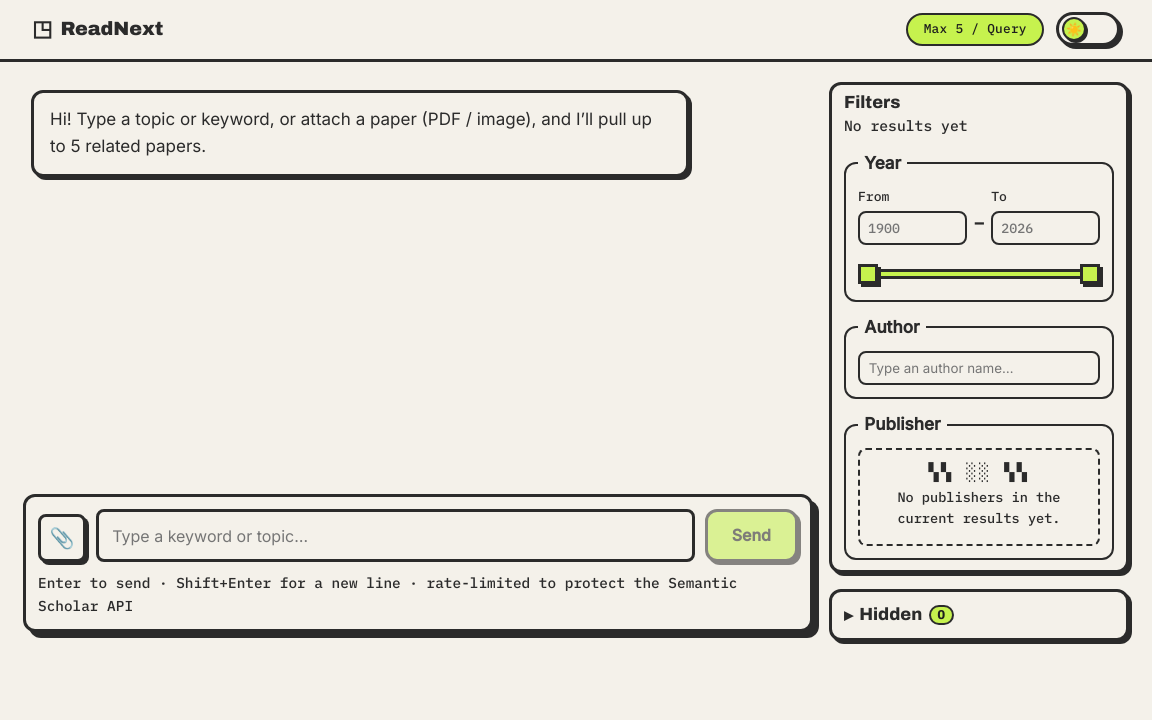
chat integration: filters drive what the chat operates on › shows an explicit empty state (not a silent fallback) when filters match nothing
Type "deep learning" into the text box with placeholder "Type a keyword or topic…" at {"x": 395, "y": 536}, box [96, 509, 695, 562]
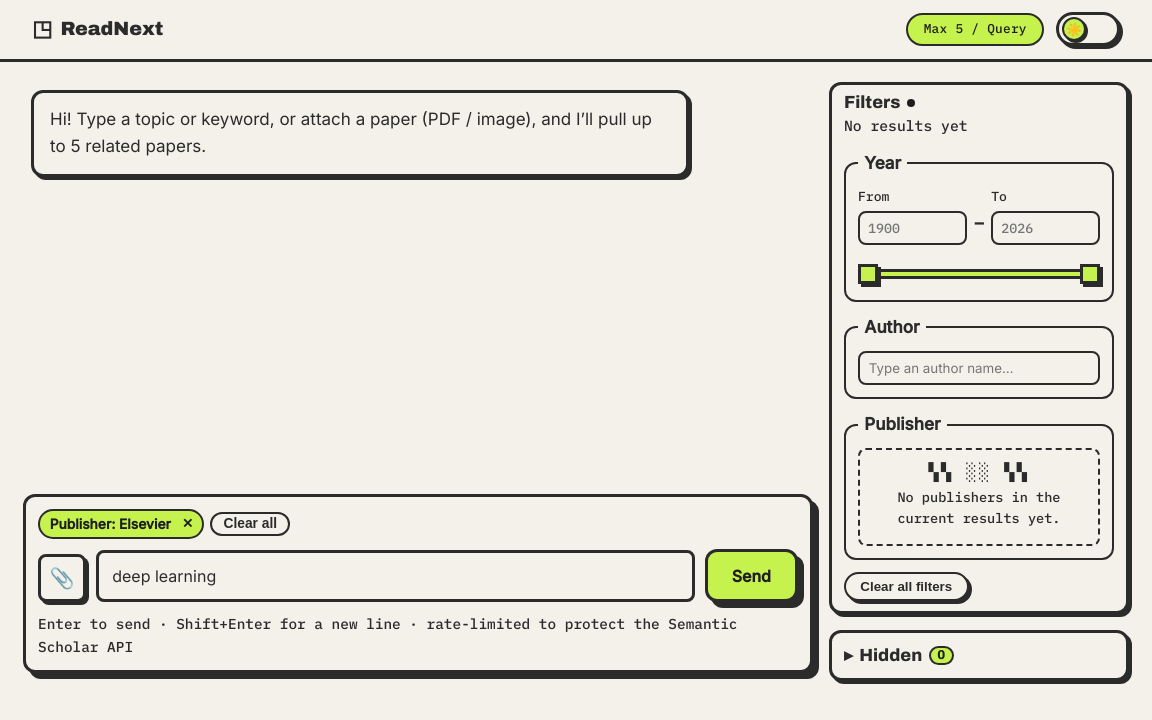
Click the button "Send" at {"x": 751, "y": 576}, box [705, 549, 798, 602]
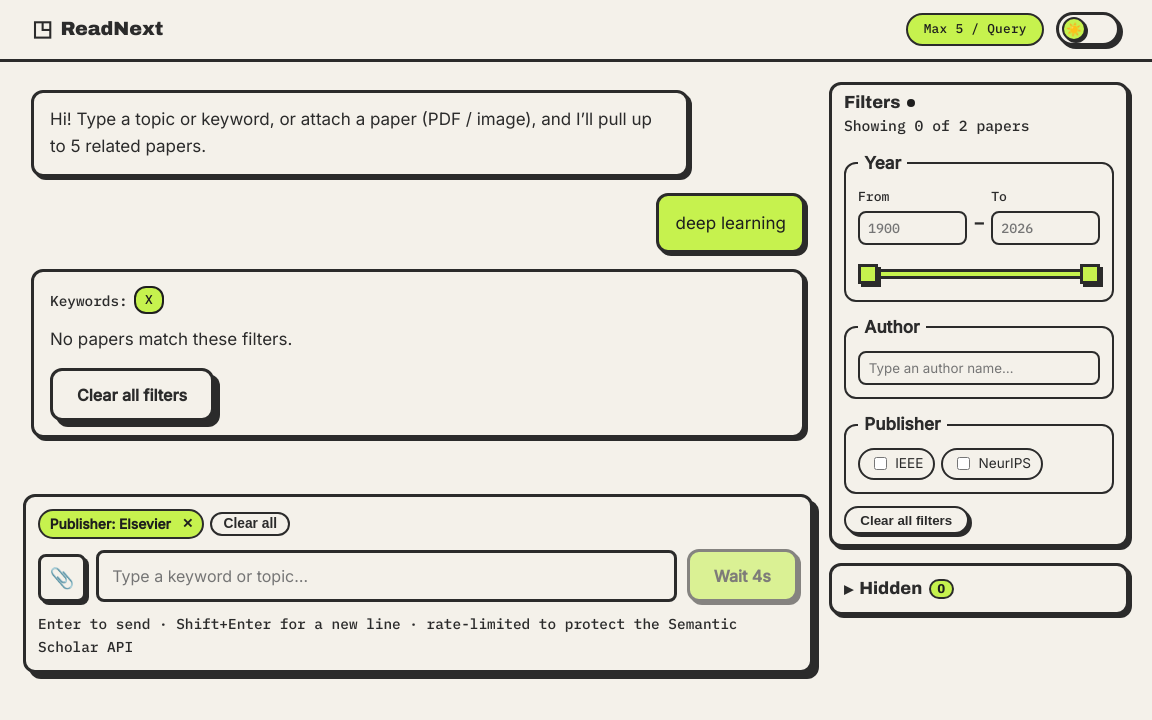
Now the text "No papers match these filters." is shown, box [50, 326, 292, 354]
